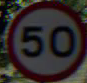Speed limit: (7, 1, 82, 75)
